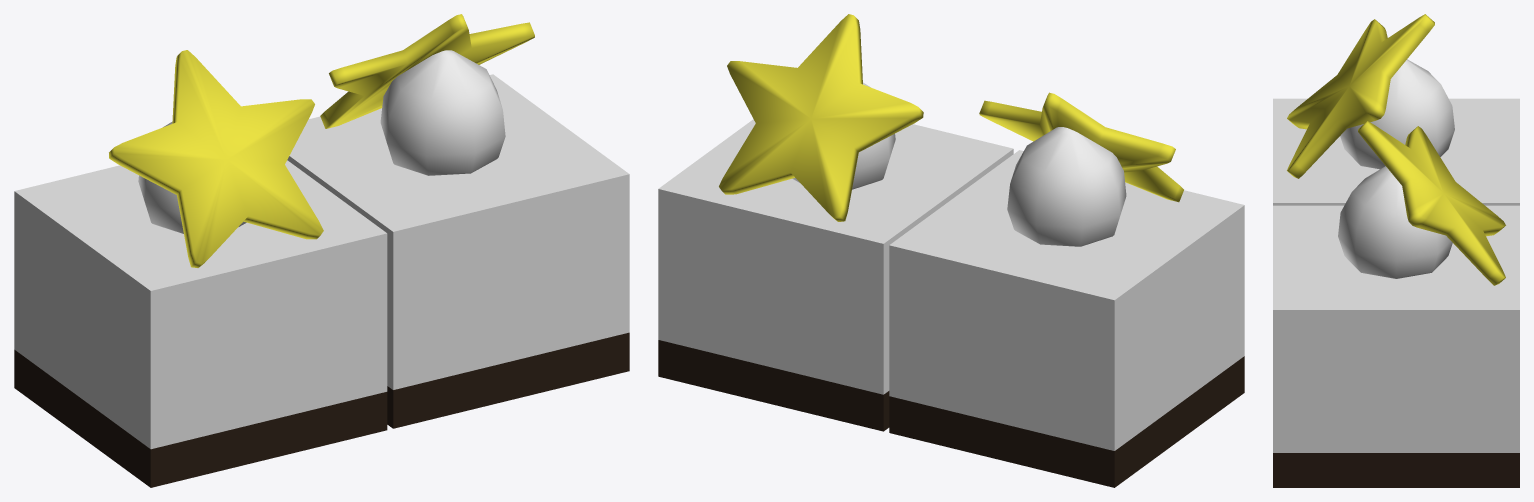
File: cake_brown_front_2.fbx
3 renders of one model, left to right at view 1: azimuth 30°, elevation 25°; view 2: azimuth 150°, elevation 25°; view 3: azimuth 270°, elevation 25°, orthographic. The views are drawn at different scales.
Parts seen in each view (by area): view 1: 立方体.036; view 2: 立方体.036; view 3: 立方体.036.
Boxes of the visible parts, <box> form: 立方体.036: <box>14,14,629,487</box>; 立方体.036: <box>658,14,1244,487</box>; 立方体.036: <box>1273,14,1519,487</box>.
Size of the model in its own units: 29.57 by 20.47 by 14.6.
